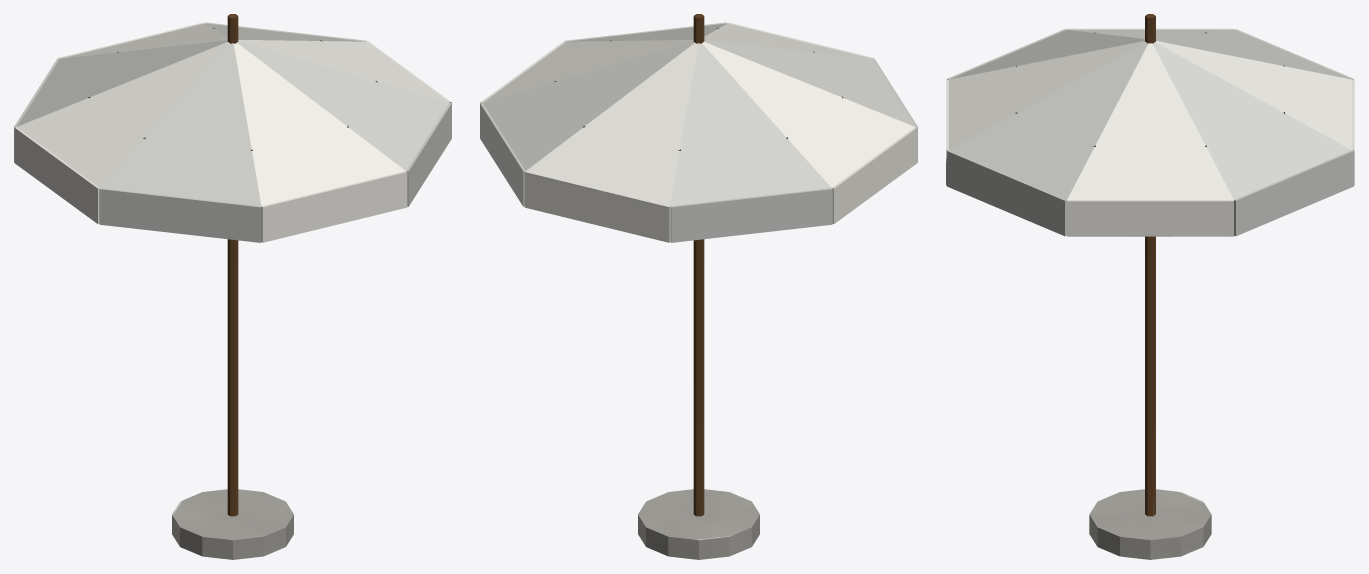
File: slunecnik_3d988364.glb
3 renders of one model, left to right at view 1: azimuth 30°, elevation 25°; view 2: azimuth 150°, elevation 25°; view 3: azimuth 270°, elevation 25°, orthographic.
Visible parts, largest first — view 1: dum; view 2: dum; view 3: dum.
Part boxes in pixels (x1=…): dum: x1=14, y1=14, x2=451, y2=559; dum: x1=480, y1=14, x2=917, y2=559; dum: x1=946, y1=14, x2=1354, y2=559.
Bounding box in the file's own units: 1.87 × 2.61 × 1.87.
1 material, 1 textured.
